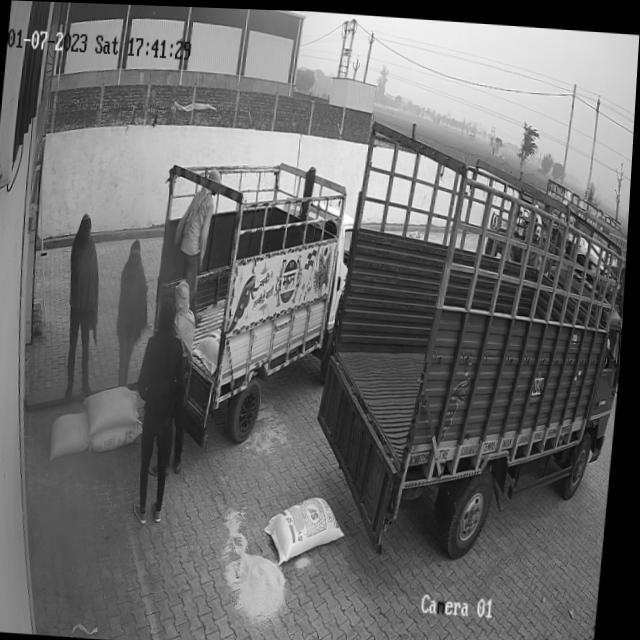sack: (268, 491, 353, 565), (85, 383, 145, 435), (53, 409, 96, 460), (94, 418, 147, 453)
